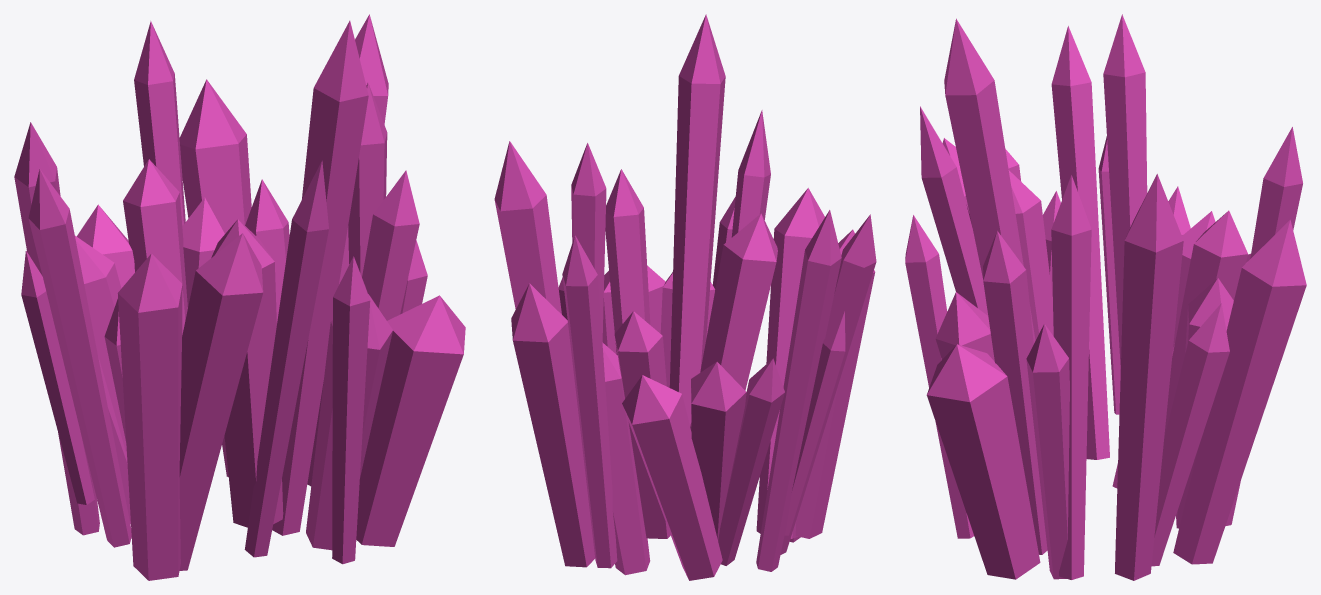
Rendered from crystals_3.fbx.
3 views of the same model, side by side, from view 1: azimuth 30°, elevation 25°; view 2: azimuth 150°, elevation 25°; view 3: azimuth 270°, elevation 25° (orthographic). The views are drawn at different scales.
Parts seen in each view (by area): view 1: crystals3.001; view 2: crystals3.001; view 3: crystals3.001.
Part boxes in pixels (left/top/right/bottom): crystals3.001: left=14, top=14, right=465, bottom=580; crystals3.001: left=494, top=14, right=876, bottom=580; crystals3.001: left=905, top=14, right=1306, bottom=580.
Bounding box in the file's own units: 359 × 479 × 328.
